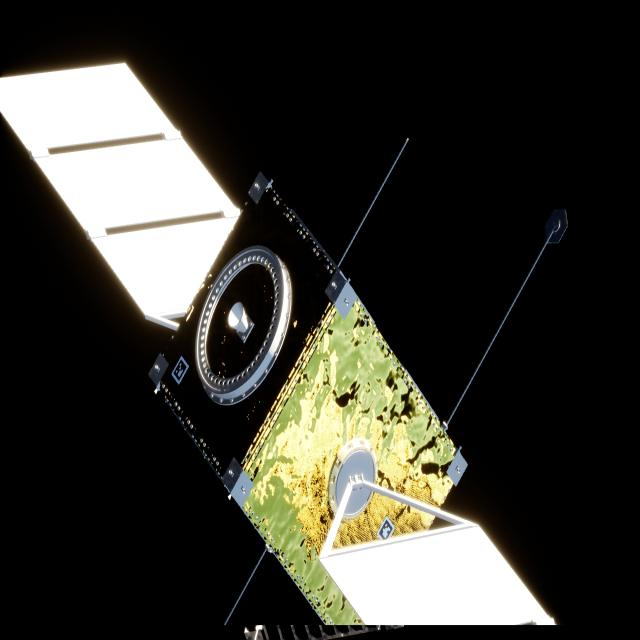medium_debris: (0, 63, 552, 629)
